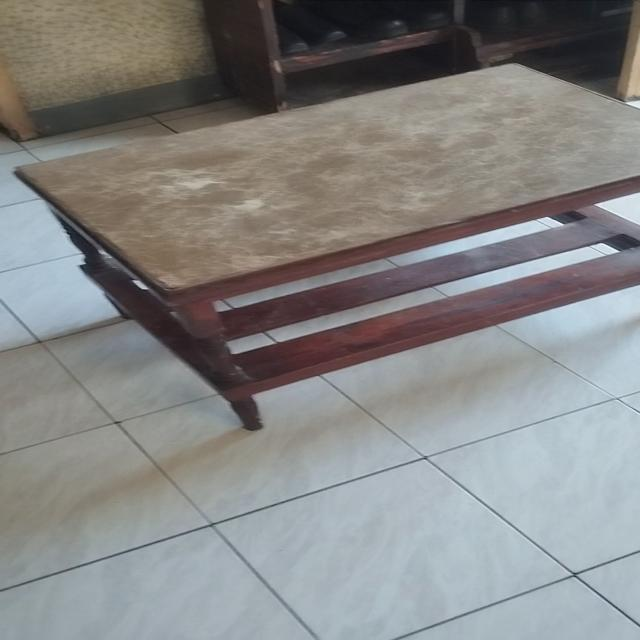table: (8, 57, 640, 436)
